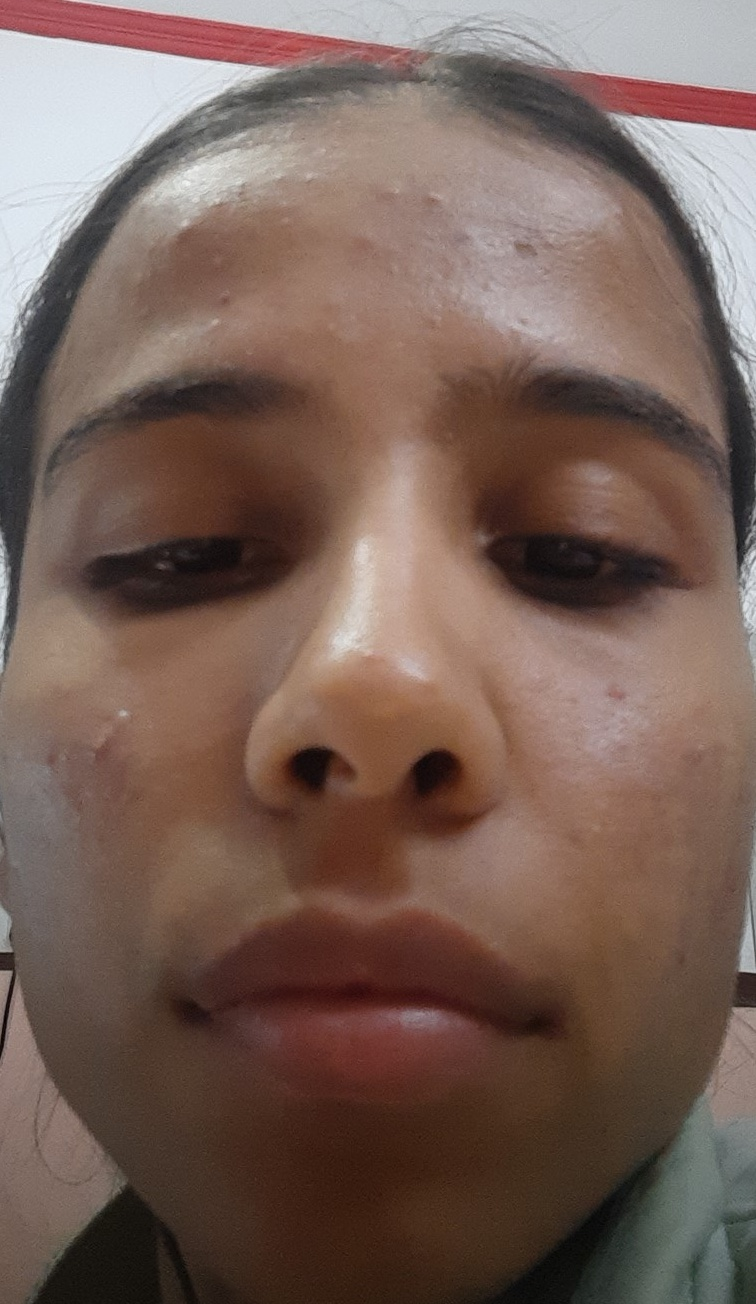papule: (333, 208, 395, 277), (66, 720, 135, 774), (589, 707, 651, 767), (197, 305, 257, 361), (408, 171, 460, 234), (171, 208, 202, 257)
